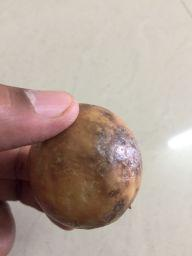lemon: (28, 102, 153, 234)
